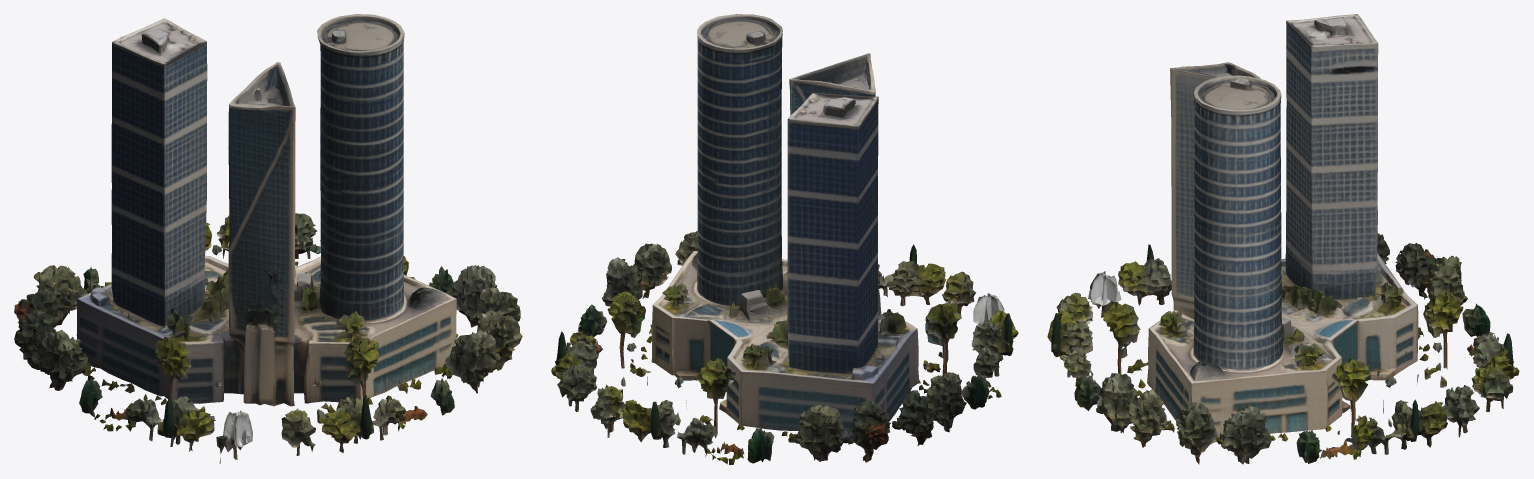
Rendered from lm_azrieli_towers_noplinth.glb.
3 renders of one model, left to right at view 1: azimuth 30°, elevation 25°; view 2: azimuth 150°, elevation 25°; view 3: azimuth 270°, elevation 25°, orthographic. The views are drawn at different scales.
Visible parts, largest first — view 1: geometry_0; view 2: geometry_0; view 3: geometry_0.
Part boxes in pixels (x1,y1,x2,y2): geometry_0: (14, 14, 522, 463); geometry_0: (551, 14, 1018, 464); geometry_0: (1047, 14, 1519, 464).
Size of the model in its own units: 0.9551 by 0.7355 by 0.976.
Materials: 1 (1 with a texture image).
